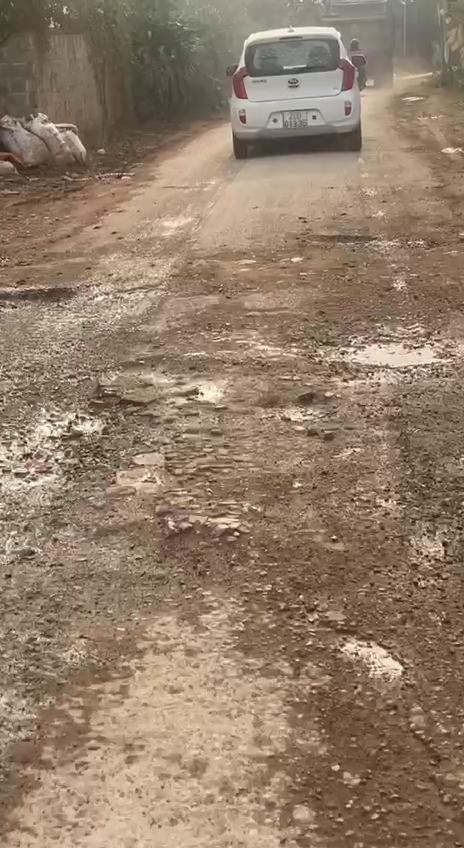pothole: (0, 359, 227, 546), (294, 596, 446, 816), (308, 322, 464, 370)
